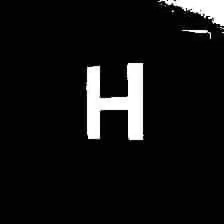LTR_H: (77, 58, 153, 147)
